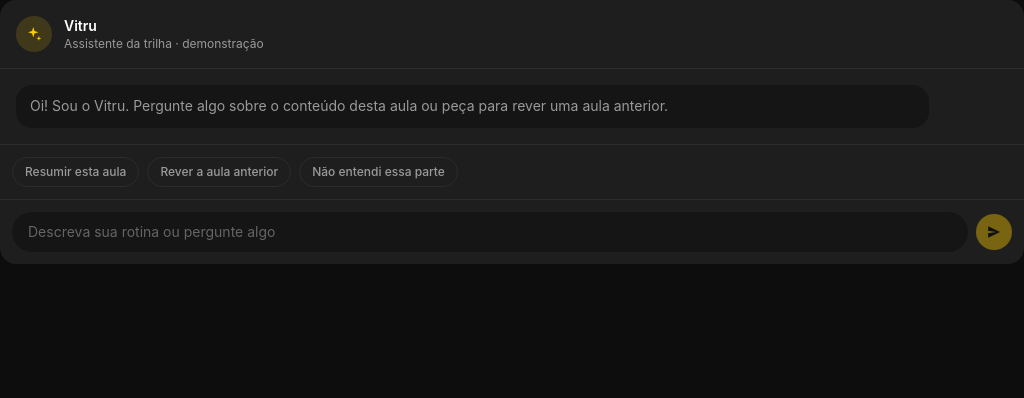
AssistantPanel › descarta ações de tipo desconhecido vindas do backend, sem renderizar nada para elas
This screenshot has width=1024, height=398.
Type "pergunta qualquer" into the field named "Mensagem para o Vitru" at [490, 232], box [12, 212, 968, 252]
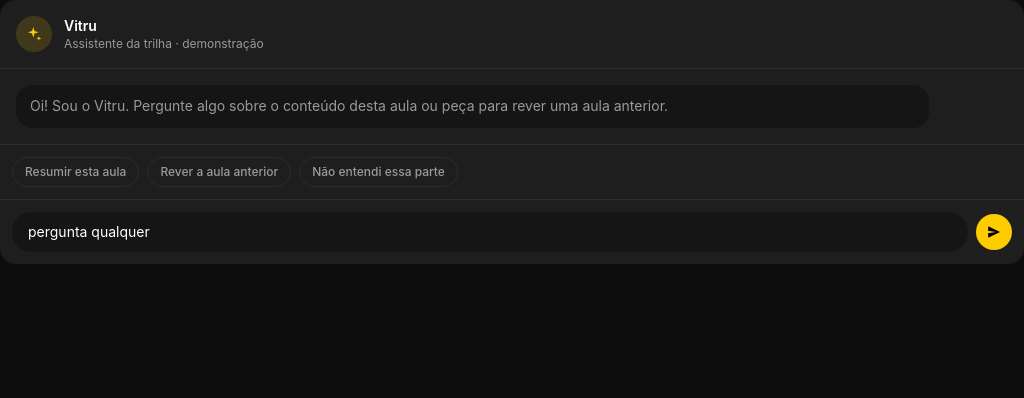
Click the button named "Enviar mensagem" at [994, 232], box [976, 214, 1012, 250]
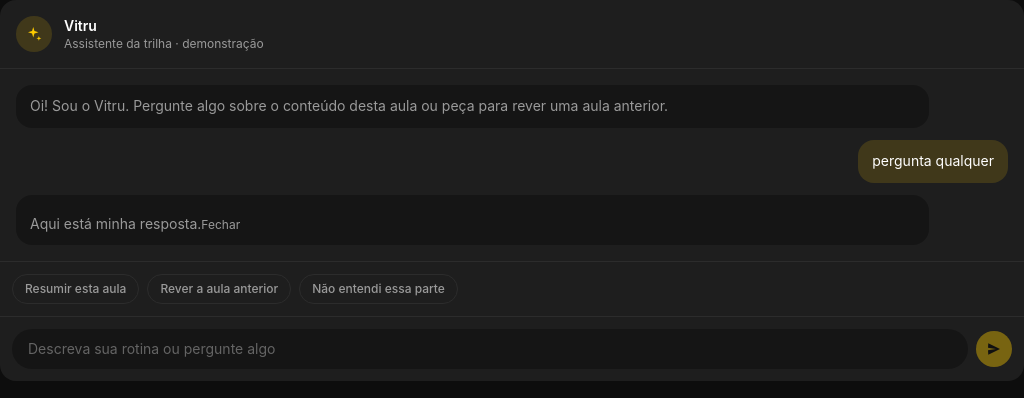
Expected: the text "Aqui está minha resposta." is shown, [30, 214, 201, 232]
Expected: the button "Fechar" is shown, [201, 216, 240, 232]
